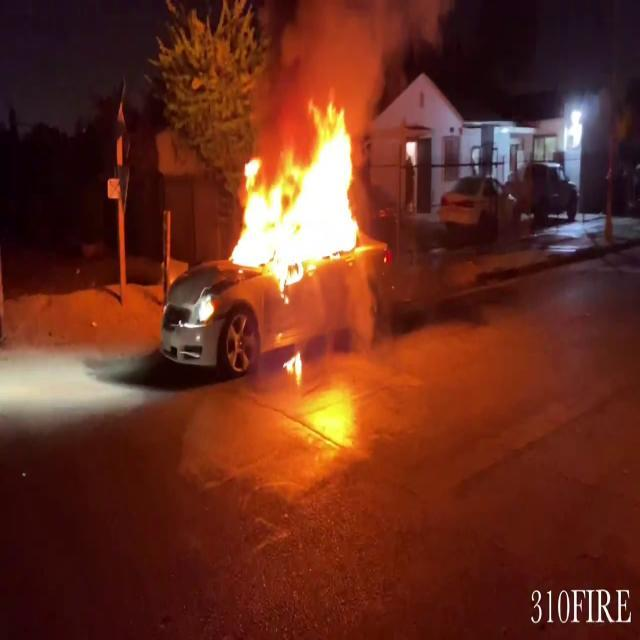Fire: (224, 87, 376, 286), (282, 344, 306, 385)
Smoke: (261, 1, 415, 112)
